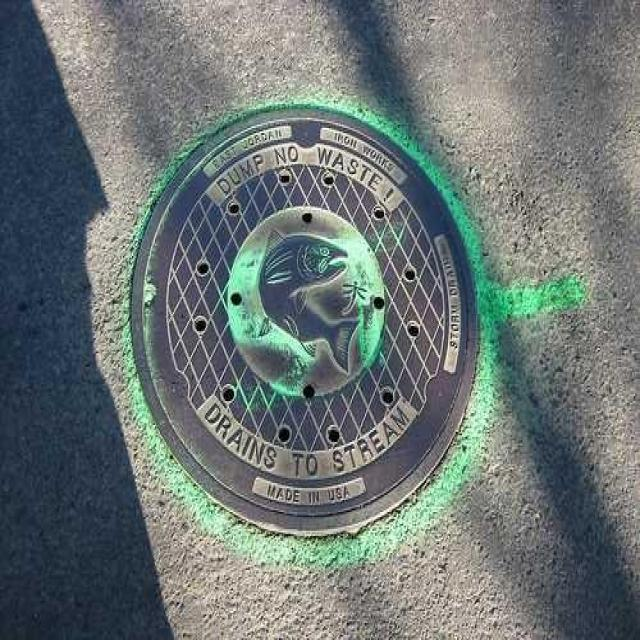manhole: (133, 108, 479, 534)
